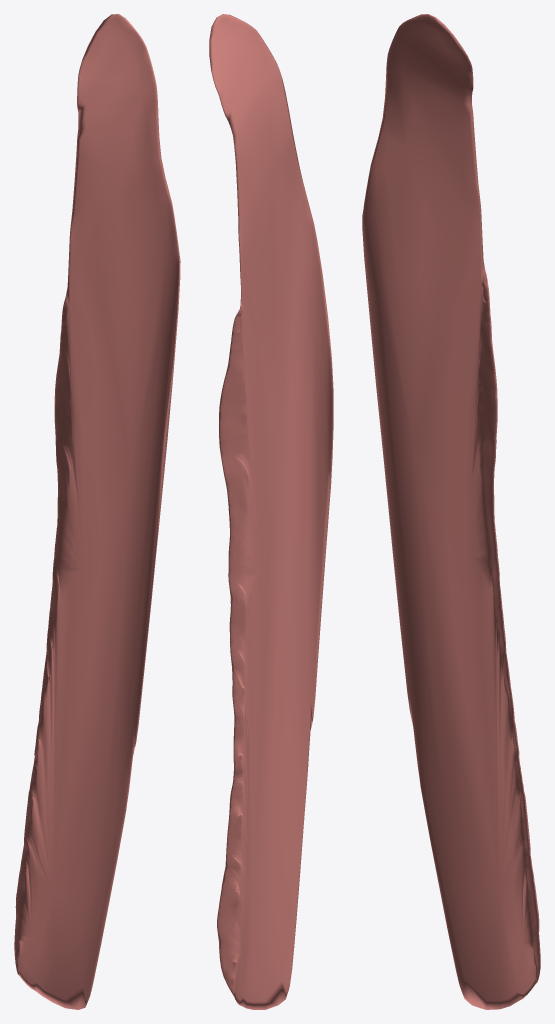
The picture shows the model from 3 angles, left to right: view 1: azimuth 90°, elevation 25°; view 2: azimuth 150°, elevation 25°; view 3: azimuth 270°, elevation 25°; orthographic projection. The views are drawn at different scales.
Visible parts, largest first — view 1: ZA_b613262452f7925b; view 2: ZA_b613262452f7925b; view 3: ZA_b613262452f7925b.
Part boxes in pixels (x1,y1,x2,y2): ZA_b613262452f7925b: (14, 14, 180, 1009); ZA_b613262452f7925b: (209, 14, 333, 1009); ZA_b613262452f7925b: (362, 14, 540, 1009).
Size of the model in its own units: 0.024 by 0.2352 by 0.0369.
